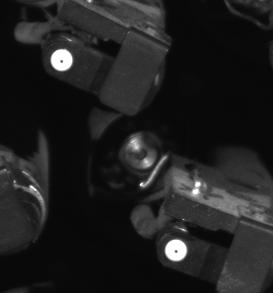fiber: (161, 235, 194, 266), (47, 46, 78, 75)
